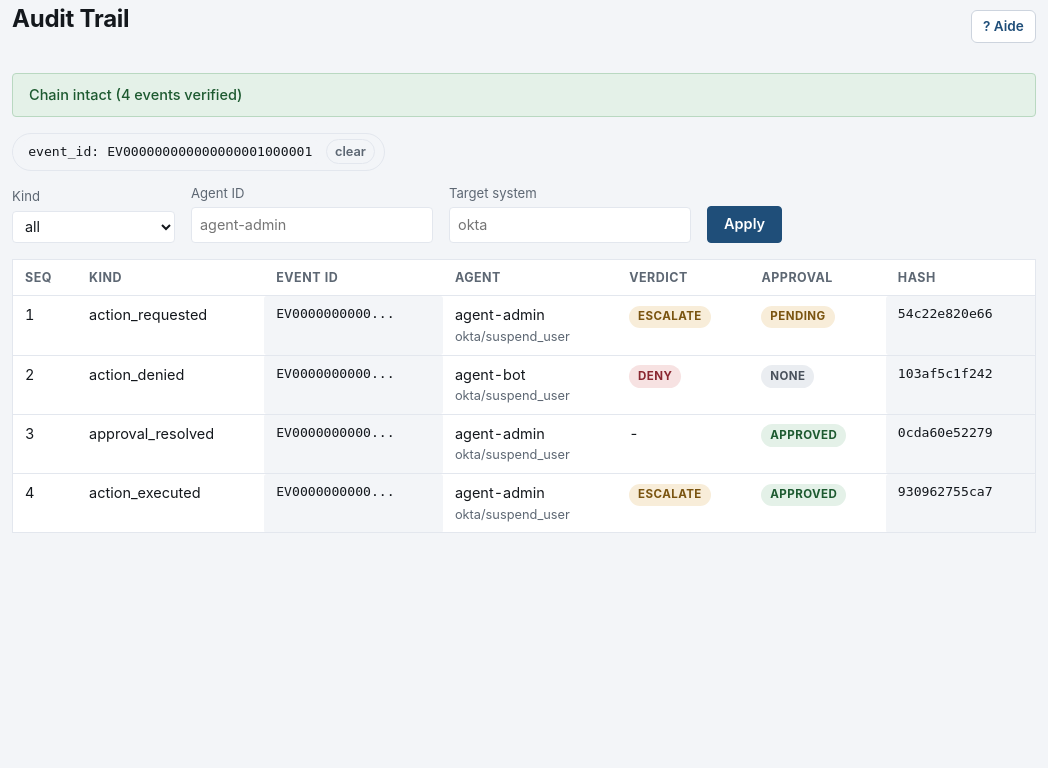
Test: AuditPage › clears the event_id filter: navigates to /audit without the param
Expected: the text "Chain intact (4 events verified)" is shown, [12, 73, 1036, 117]
What coordinates should you click on to do the following:
click the button with aria-label "Clear event_id filter"
I would click on:
 (350, 152)
Its box is [326, 139, 375, 164].
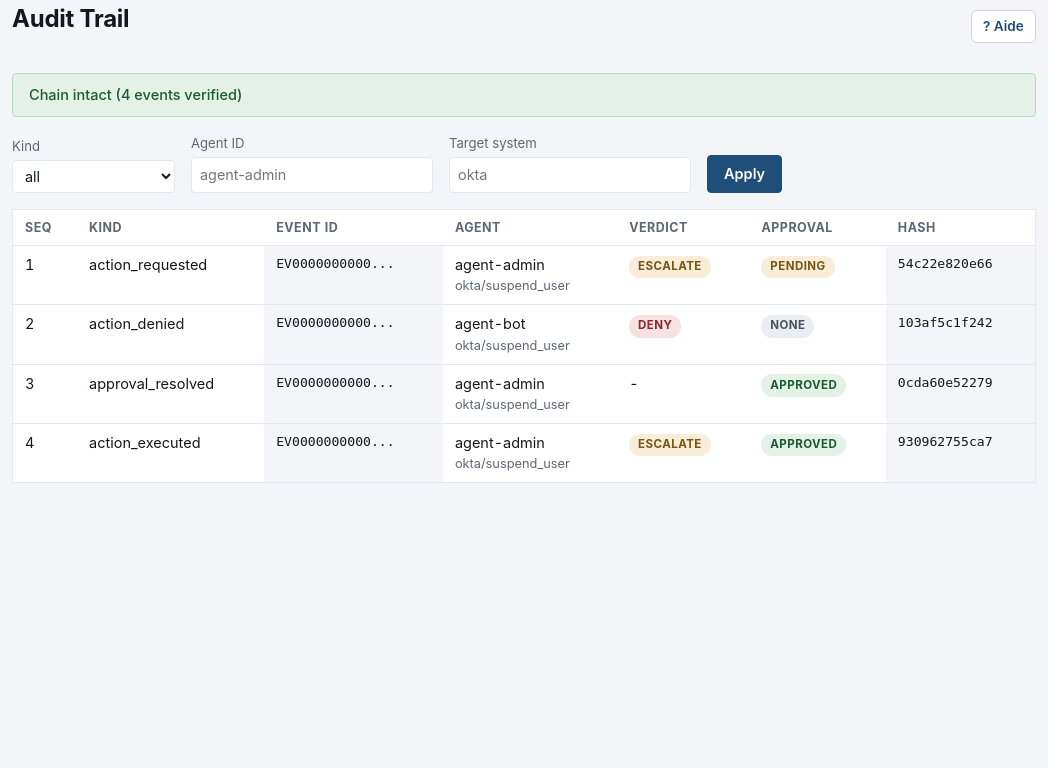
Expected: the element with test id "audit-event-id-filter" is gone
